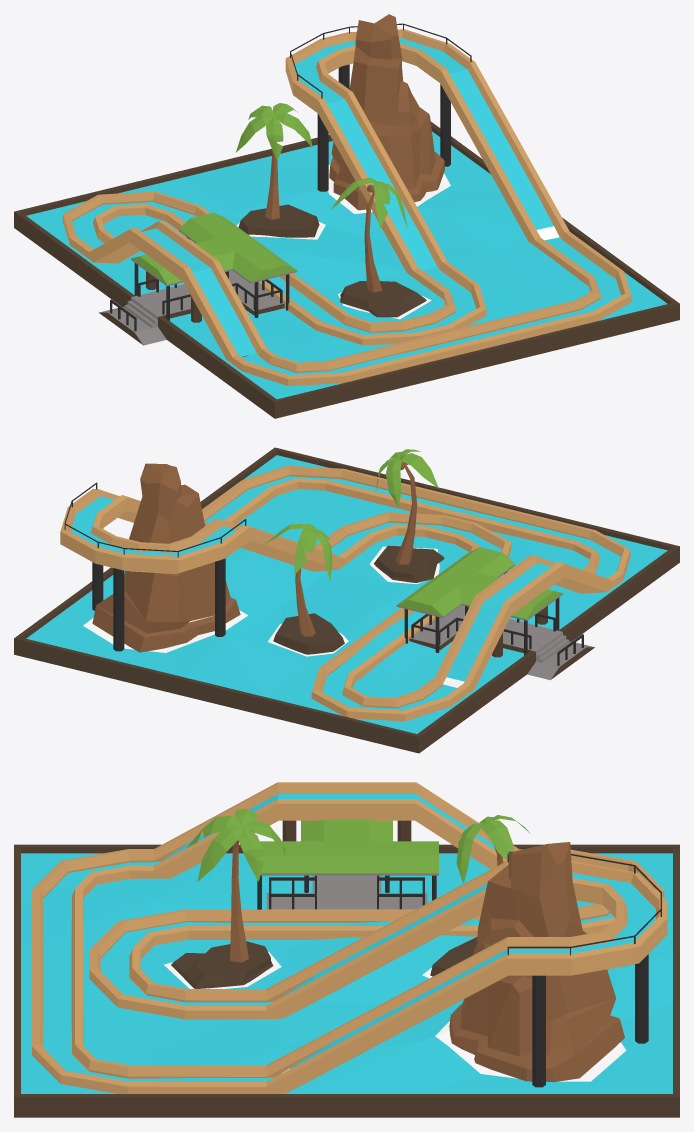
Rendered from water-ride.glb.
The picture shows the model from 3 angles, top to bottom: view 1: azimuth 30°, elevation 25°; view 2: azimuth 150°, elevation 25°; view 3: azimuth 270°, elevation 25°; orthographic projection. The views are drawn at different scales.
Visible parts, largest first — view 1: water-ride; view 2: water-ride; view 3: water-ride.
Boxes of the visible parts, x1,y1,x2,y2 form: water-ride: [14, 14, 679, 418]; water-ride: [14, 447, 679, 753]; water-ride: [14, 782, 679, 1117].
Size of the model in its own units: 27.5 by 10.78 by 29.
1 material, 1 textured.
